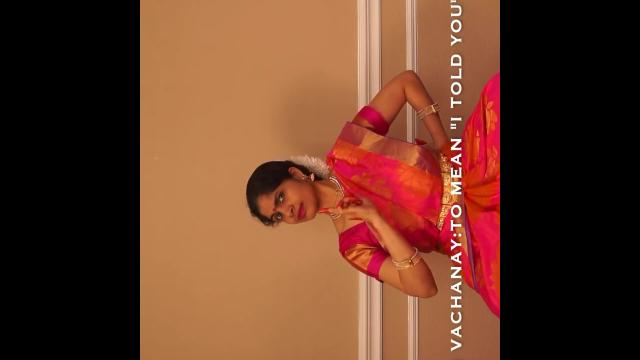soochi: (314, 189, 388, 229)
